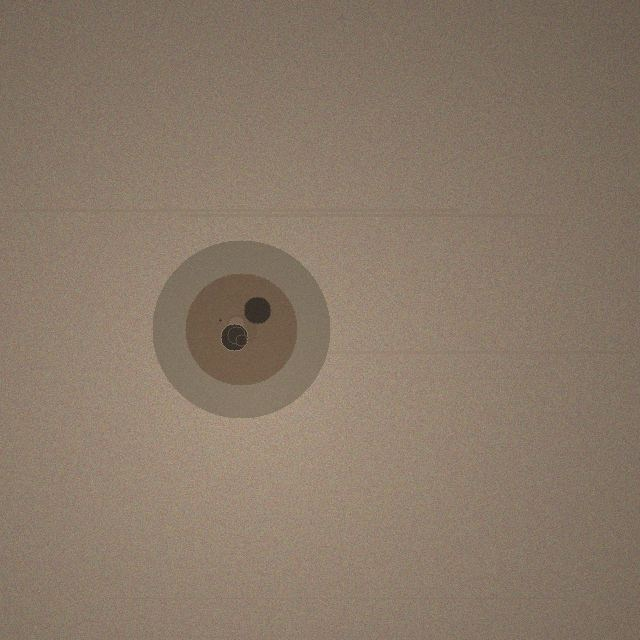shrinkage: (152, 240, 330, 418)
